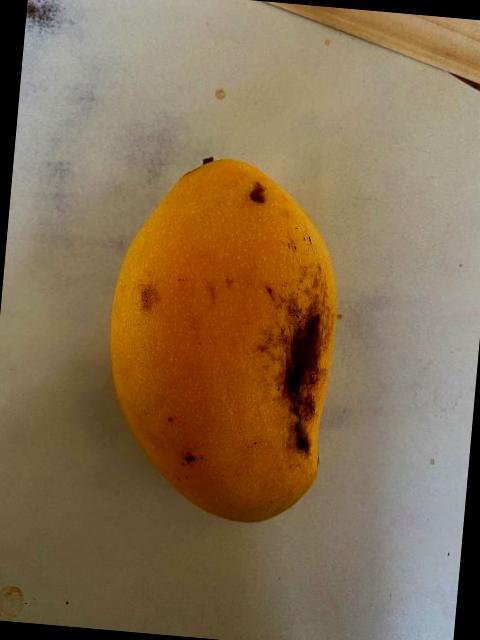Mango Overripe: (65, 108, 370, 524)
